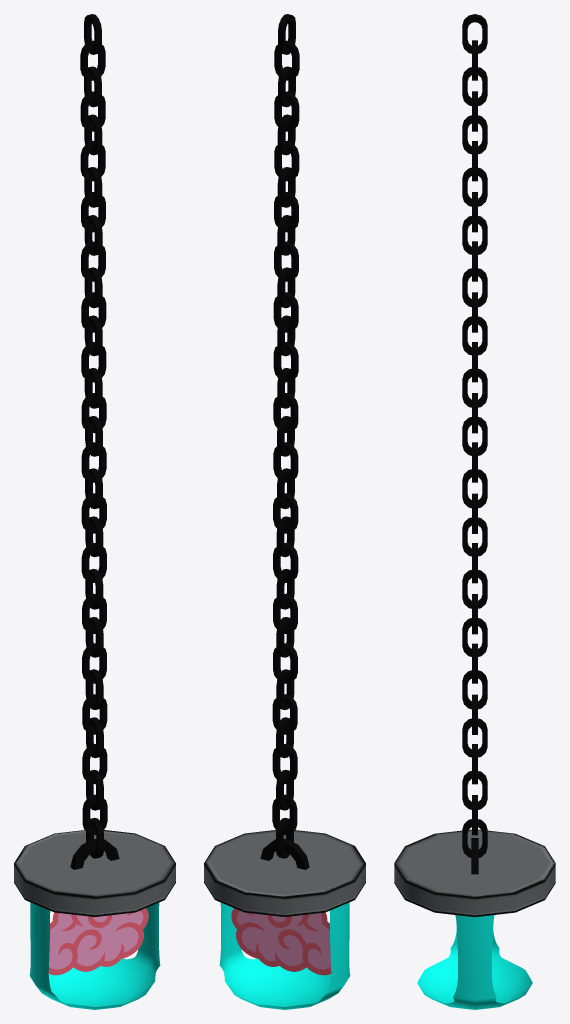
File: Brain_Chain.fbx
3 renders of one model, left to right at view 1: azimuth 30°, elevation 25°; view 2: azimuth 150°, elevation 25°; view 3: azimuth 270°, elevation 25°, orthographic.
Parts seen in each view (by area): view 1: polySurface485, polySurface484, polySurface483, polySurface439; view 2: polySurface485, polySurface484, polySurface483, polySurface439; view 3: polySurface485, polySurface484, polySurface483.
Part boxes in pixels (x1,y1,x2,y2): polySurface485: (70, 14, 119, 869); polySurface484: (14, 830, 175, 916); polySurface483: (29, 902, 160, 1009); polySurface439: (48, 908, 148, 975); polySurface485: (260, 14, 309, 869); polySurface484: (204, 830, 365, 916); polySurface483: (219, 902, 350, 1009); polySurface439: (231, 908, 331, 975); polySurface485: (462, 14, 487, 874); polySurface484: (394, 829, 555, 916); polySurface483: (417, 915, 532, 1009).
Bounding box in the file's own units: 0.196 × 1.31 × 0.196.
Materials: 3 (3 with a texture image).
